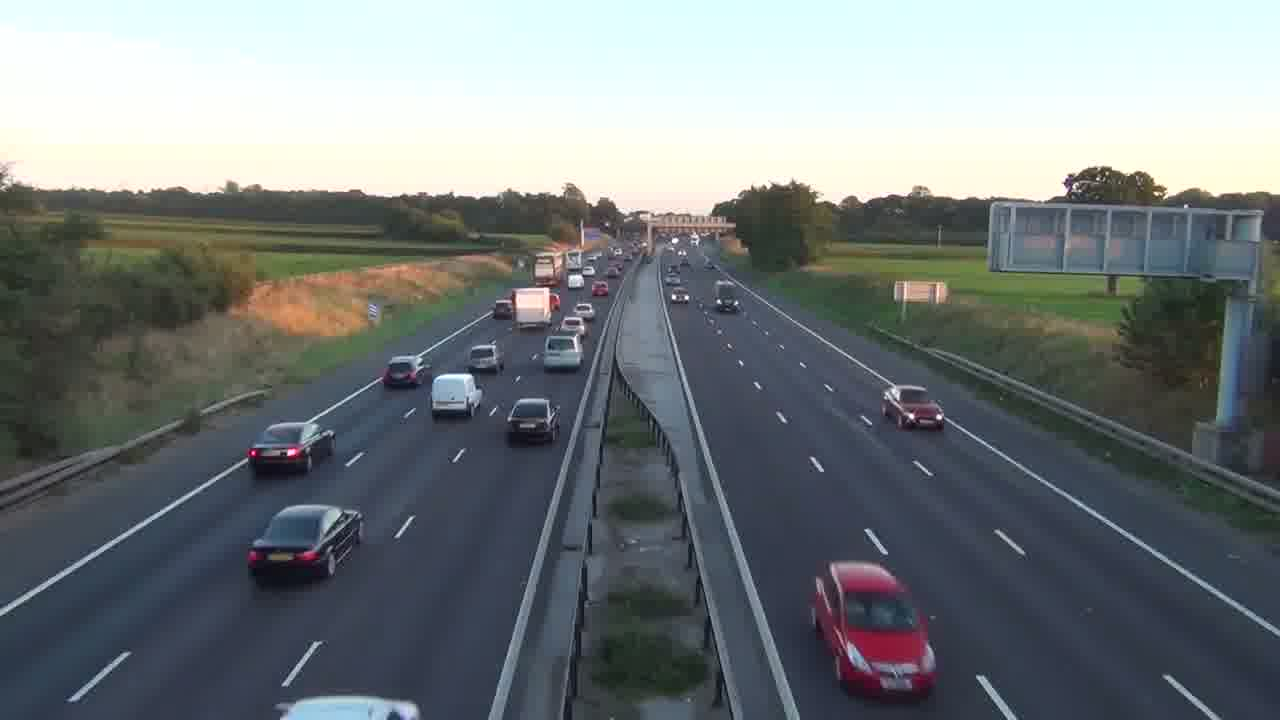car: (245, 502, 364, 582), (246, 419, 336, 476), (880, 384, 945, 431), (507, 396, 561, 444), (430, 372, 483, 420), (543, 333, 583, 372), (382, 355, 424, 389), (467, 342, 504, 374), (592, 280, 609, 297)
truck: (812, 560, 938, 700), (430, 372, 483, 420), (512, 287, 552, 330)
